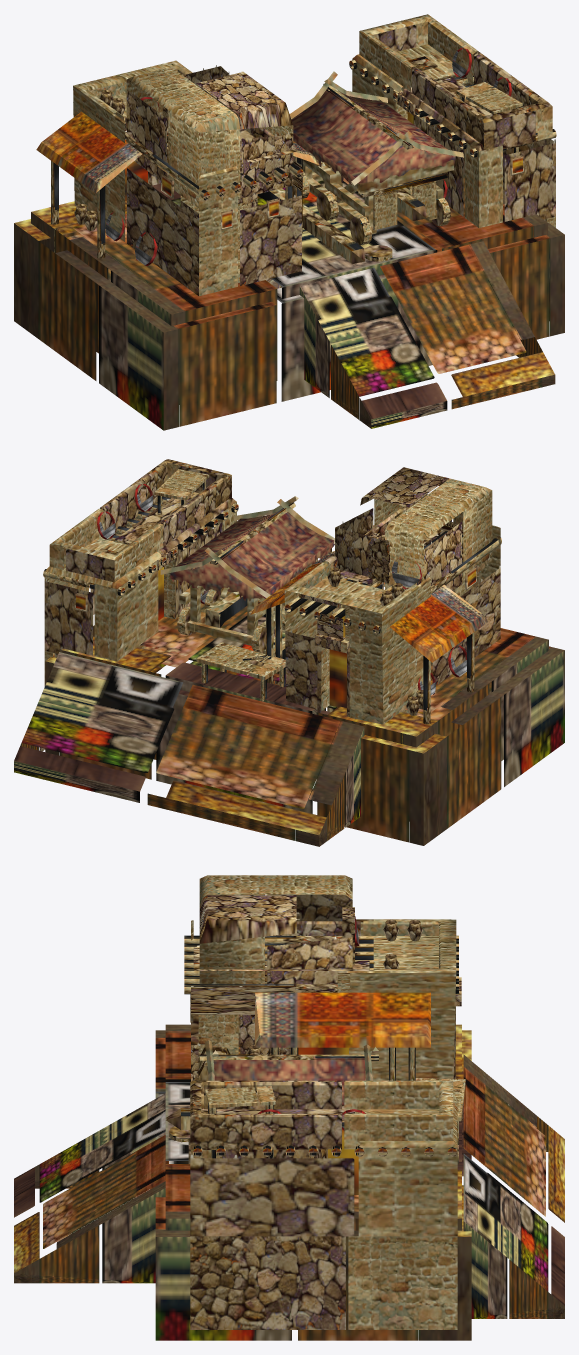
The model's file is workshop.dae.
3 views of the same model, one above another, from view 1: azimuth 30°, elevation 25°; view 2: azimuth 150°, elevation 25°; view 3: azimuth 270°, elevation 25° (orthographic). The views are drawn at different scales.
Parts seen in each view (by area): view 1: workshop; view 2: workshop; view 3: workshop.
Part boxes in pixels (left/top/right/bottom): workshop: left=14, top=14, right=564, bottom=430; workshop: left=14, top=459, right=564, bottom=846; workshop: left=14, top=875, right=564, bottom=1340.
Size of the model in its own units: 25.47 by 28.06 by 16.26.
